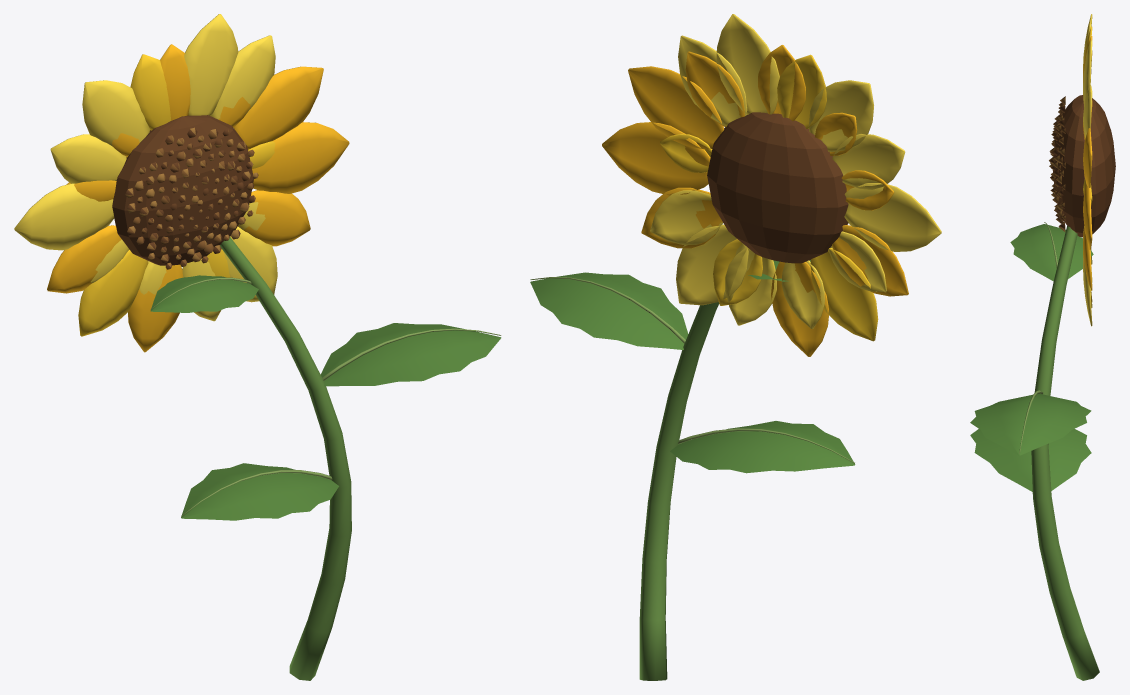
Rendered from sunflower-v2-bloom-1-1.glb.
The picture shows the model from 3 angles, left to right: view 1: azimuth 30°, elevation 25°; view 2: azimuth 150°, elevation 25°; view 3: azimuth 270°, elevation 25°; orthographic projection. The views are drawn at different scales.
Visible parts, largest first — view 1: Curved tapered stem; view 2: Curved tapered stem; view 3: Curved tapered stem.
Boxes of the visible parts, x1,y1,x2,y2 form: Curved tapered stem: (14, 14, 501, 680); Curved tapered stem: (530, 14, 941, 680); Curved tapered stem: (970, 14, 1115, 680).
Size of the model in its own units: 0.3297 by 0.4812 by 0.1056.
